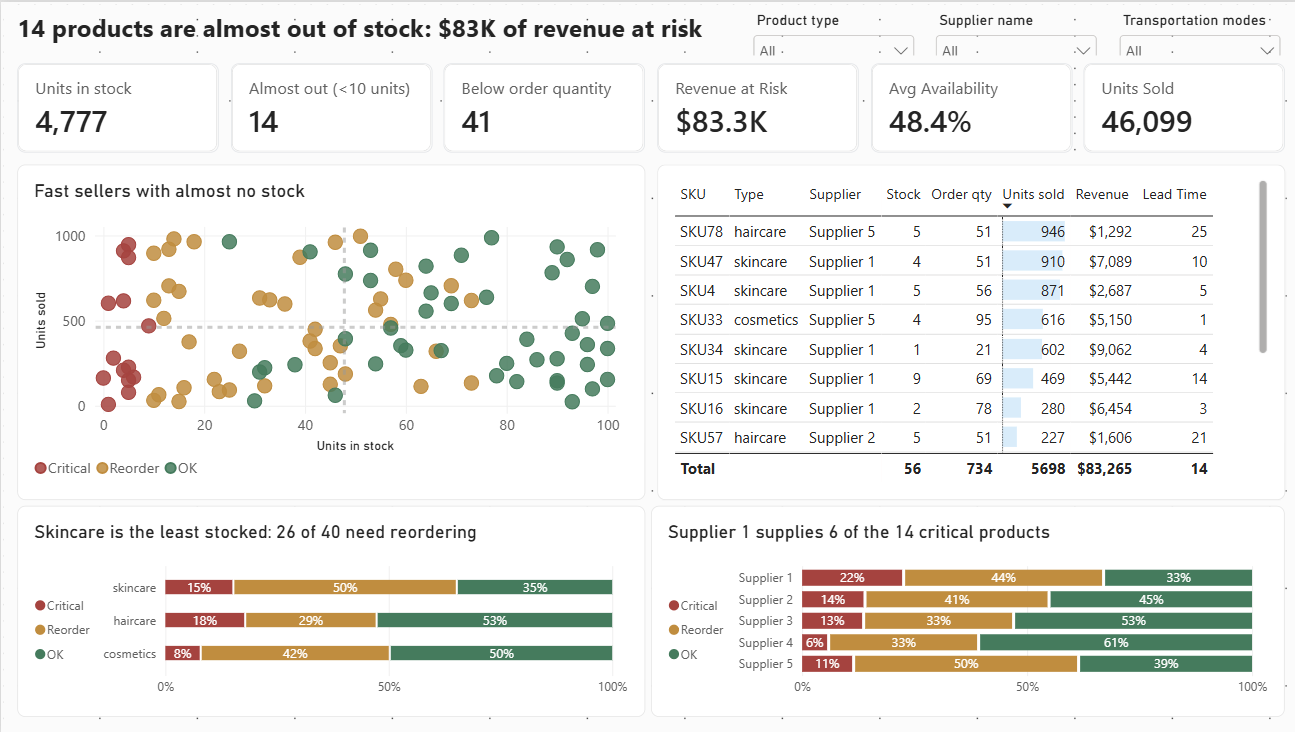

What the dashboard file says about the page in this screenshot:
{"tool":"powerbi","page":{"name":"Inventory","canvas":[1280,720],"ordinal":3},"visuals":[{"type":"textbox","box":[16,8,700,44],"z":0},{"type":"slicer","fields":{"Values":["SupplyChain.Product type"]},"box":[736,8,168,44],"z":1000},{"type":"slicer","fields":{"Values":["SupplyChain.Supplier name"]},"box":[916,8,168,44],"z":2000},{"type":"slicer","fields":{"Values":["SupplyChain.Transportation modes"]},"box":[1096,8,168,44],"z":3000},{"type":"cardVisual","fields":{"Data":["_Measures.Total Stock"]},"box":[16,60,198,88],"z":4000},{"type":"cardVisual","fields":{"Data":["_Measures.Critical Stock SKUs"]},"box":[226,60,198,88],"z":5000},{"type":"cardVisual","fields":{"Data":["_Measures.Reorder SKUs"]},"box":[436,60,198,88],"z":6000},{"type":"cardVisual","fields":{"Data":["_Measures.Avg Availability"]},"box":[856,60,198,88],"z":7000},{"type":"cardVisual","fields":{"Data":["_Measures.Revenue at Risk"]},"box":[646,60,198,88],"z":8000},{"type":"cardVisual","fields":{"Data":["_Measures.Units Sold"]},"box":[1066,60,198,88],"z":9000},{"type":"scatterChart","title":"Fast sellers with almost no stock","fields":{"Category":["SupplyChain.SKU"],"Series":["SupplyChain.Stock Status"],"X":["Avg(SupplyChain.Stock levels)"],"Y":["Avg(SupplyChain.Number of products sold)"]},"box":[16,160,618,330],"z":10000},{"type":"tableEx","fields":{"Values":["SupplyChain.SKU","SupplyChain.Product type","SupplyChain.Supplier name","Sum(SupplyChain.Stock levels)","Sum(SupplyChain.Order quantities)","Sum(SupplyChain.Number of products sold)","Sum(SupplyChain.Revenue generated)","Avg(SupplyChain.Supplier Lead Time)"]},"box":[646,160,618,330],"z":11000},{"type":"hundredPercentStackedBarChart","title":"Skincare is the least stocked: 26 of 40 need reordering","fields":{"Category":["SupplyChain.Product type"],"Series":["SupplyChain.Stock Status"],"Y":["_Measures.SKU Count"]},"box":[16,496,618,208],"z":12000},{"type":"hundredPercentStackedBarChart","title":"Supplier 1 supplies 6 of the 14 critical products","fields":{"Category":["SupplyChain.Supplier name"],"Series":["SupplyChain.Stock Status"],"Y":["_Measures.SKU Count"]},"box":[640,496,624,208],"z":13000}]}

Visuals, with their boxes in screenshot pixels (x1, y1, x2, y2), scaled from the page's 1280x720 canvas onto the 1295x732 screenshot:
textbox: bbox=(16, 8, 724, 53)
slicer - SupplyChain.Product type: bbox=(745, 8, 915, 53)
slicer - SupplyChain.Supplier name: bbox=(927, 8, 1097, 53)
slicer - SupplyChain.Transportation modes: bbox=(1109, 8, 1279, 53)
cardVisual - _Measures.Total Stock: bbox=(16, 61, 217, 150)
cardVisual - _Measures.Critical Stock SKUs: bbox=(229, 61, 429, 150)
cardVisual - _Measures.Reorder SKUs: bbox=(441, 61, 641, 150)
cardVisual - _Measures.Avg Availability: bbox=(866, 61, 1066, 150)
cardVisual - _Measures.Revenue at Risk: bbox=(654, 61, 854, 150)
cardVisual - _Measures.Units Sold: bbox=(1078, 61, 1279, 150)
"Fast sellers with almost no stock" scatterChart: bbox=(16, 163, 641, 498)
tableEx - SupplyChain.SKU x SupplyChain.Product type: bbox=(654, 163, 1279, 498)
"Skincare is the least stocked: 26 of 40 need reordering" hundredPercentStackedBarChart: bbox=(16, 504, 641, 716)
"Supplier 1 supplies 6 of the 14 critical products" hundredPercentStackedBarChart: bbox=(648, 504, 1279, 716)
